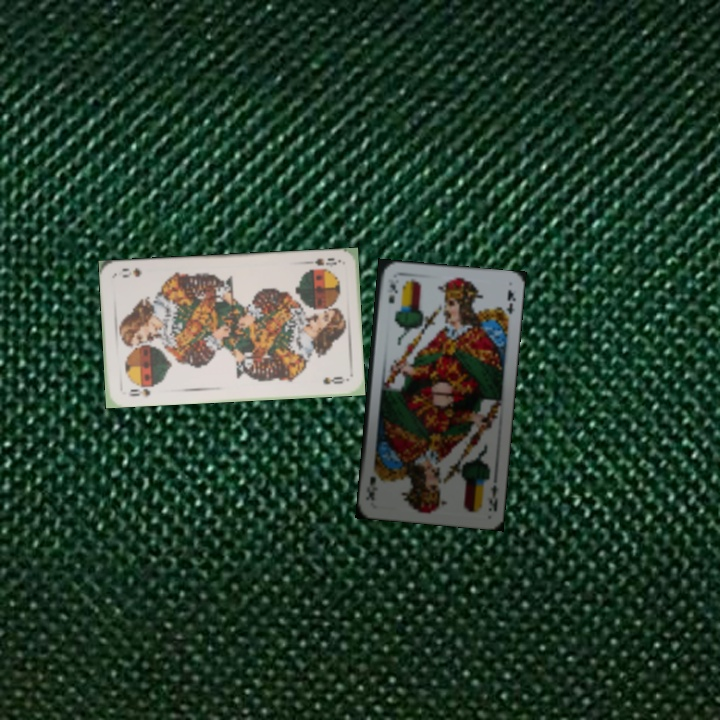EK: (483, 481, 501, 514), (383, 279, 399, 306)
SO: (311, 254, 339, 269), (125, 385, 153, 399)
